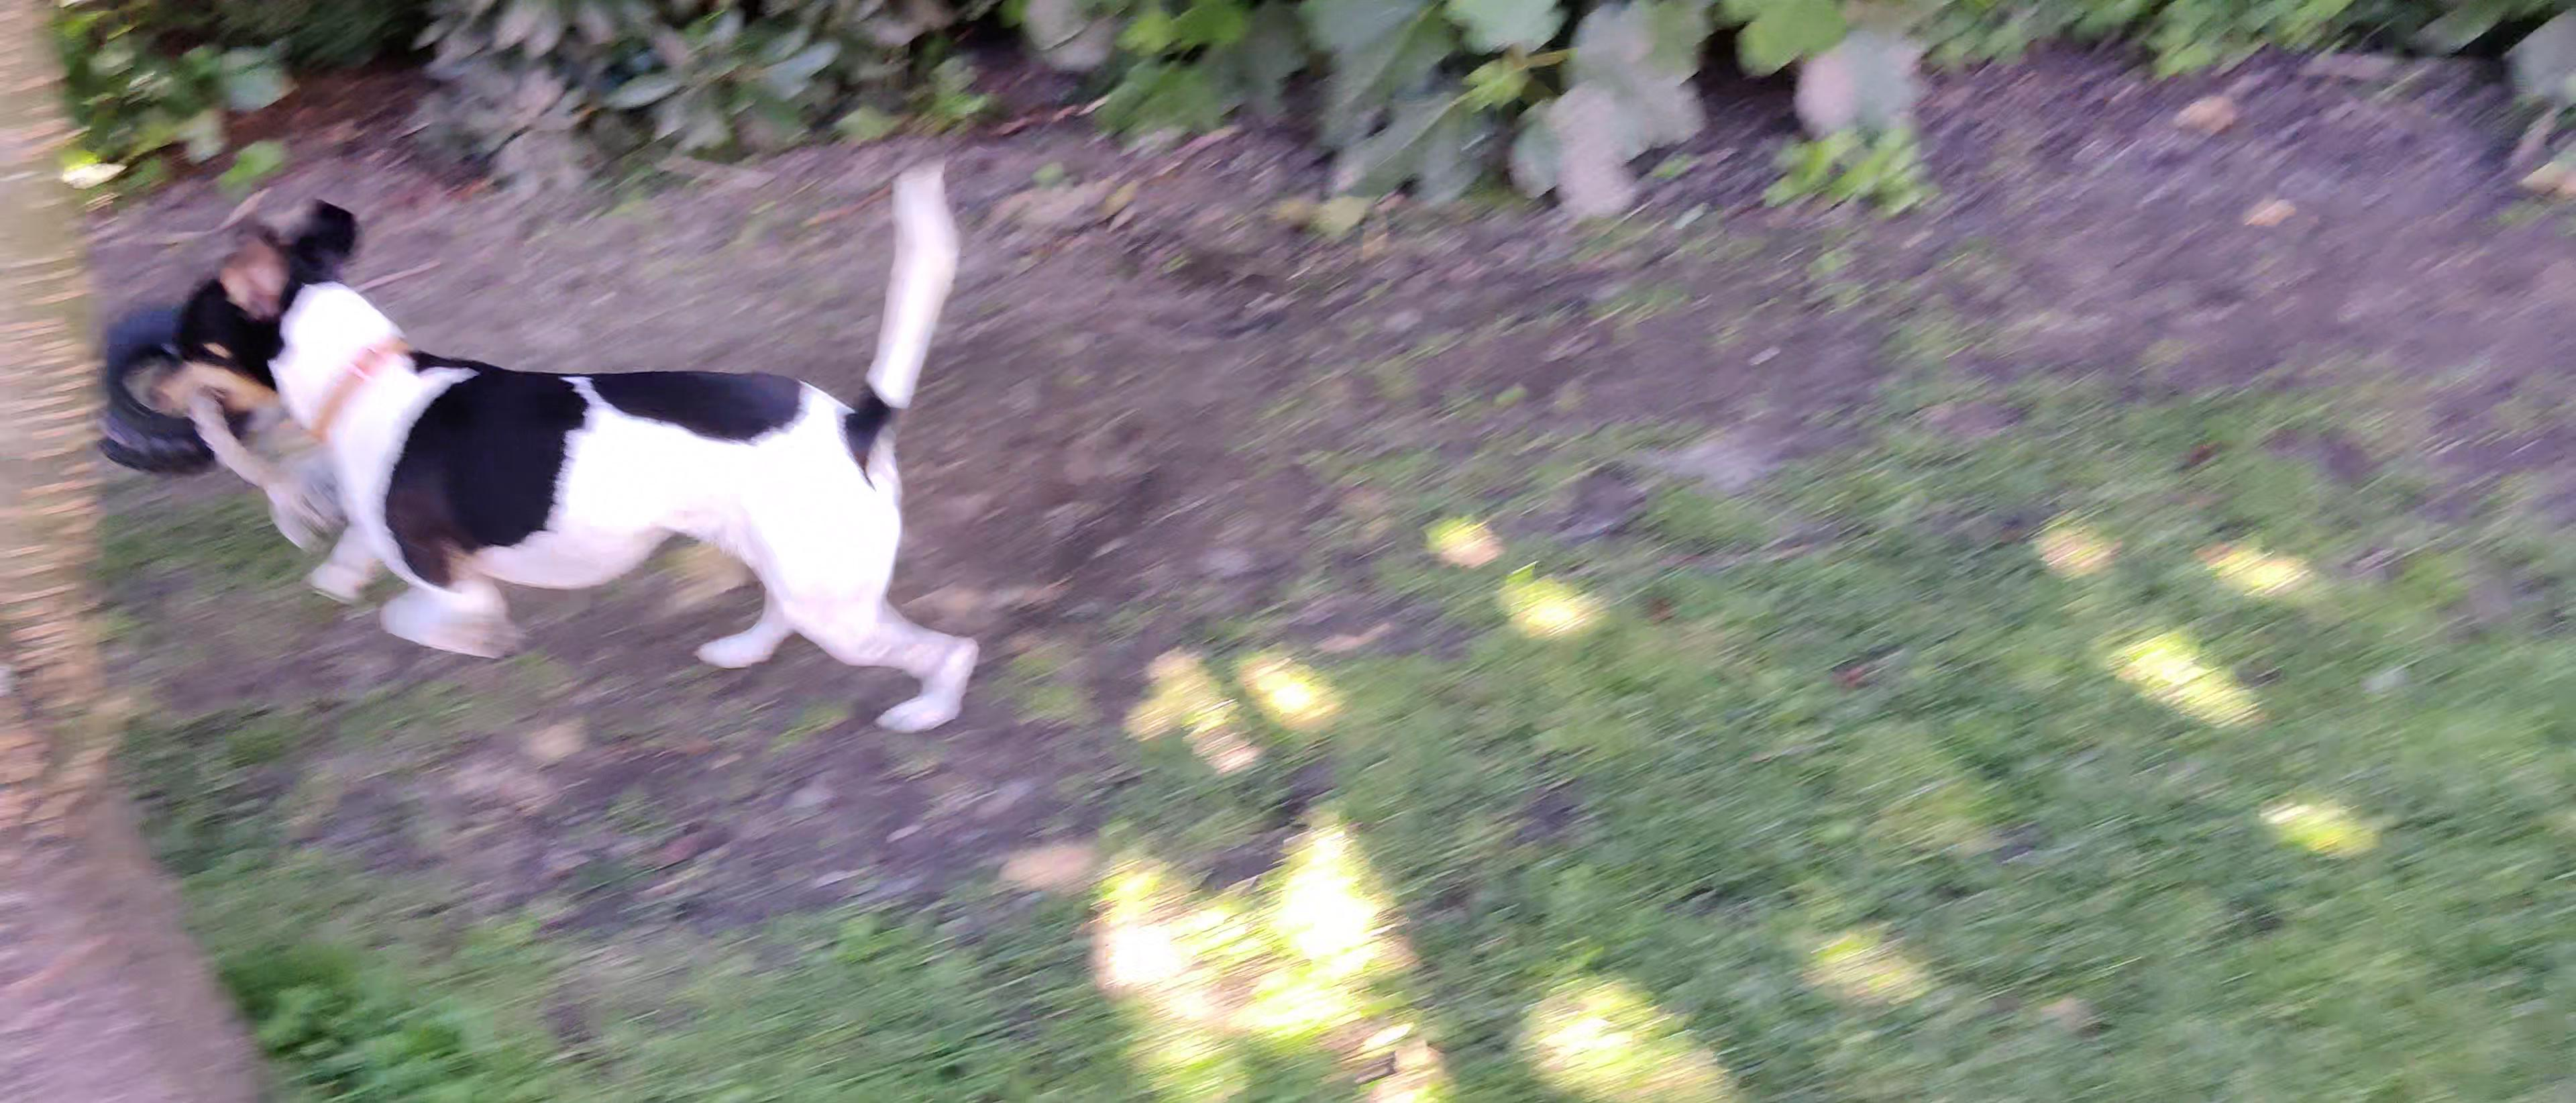Dog: (135, 148, 987, 741)
